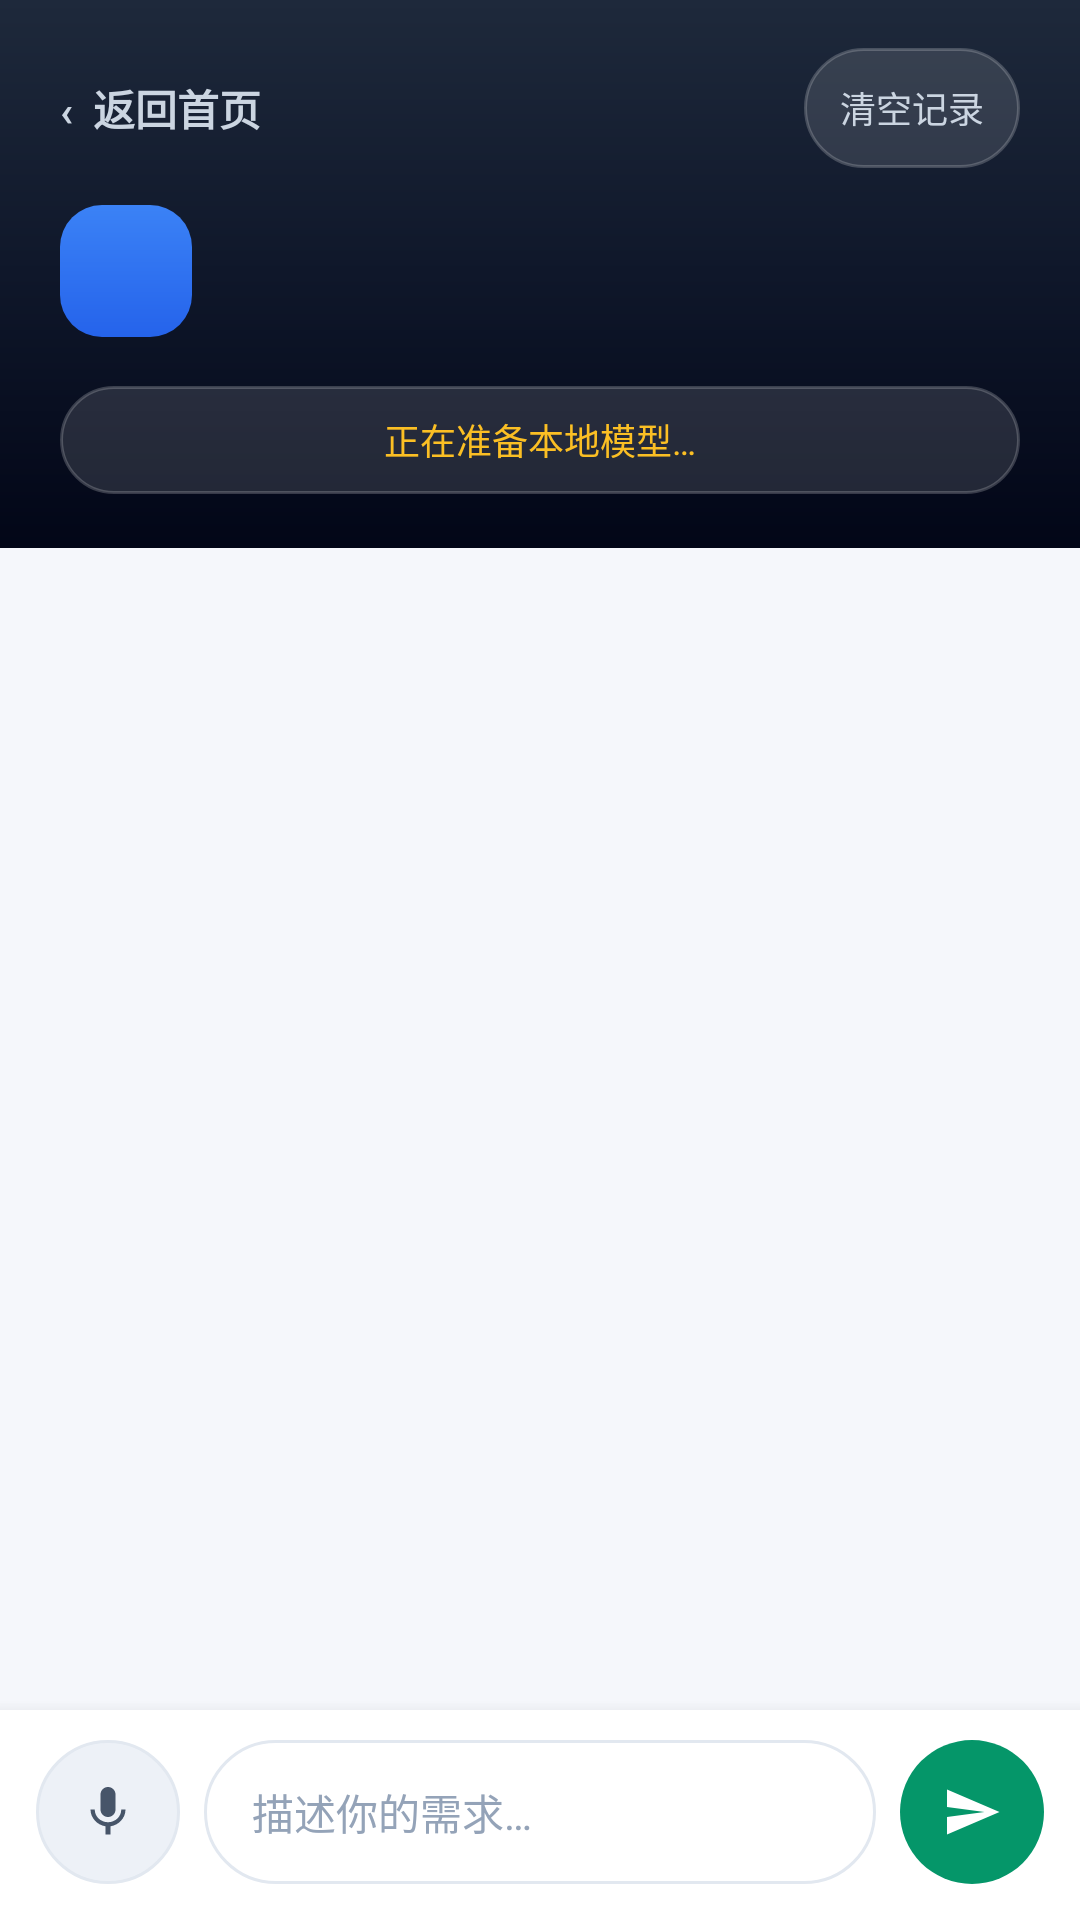

Locate icon controls on the screen. Image size 1080px×1920px, boxes as (x1, y1, x2, y2).
发送: (900, 1740, 1044, 1884)
语音输入: (36, 1740, 180, 1884)
